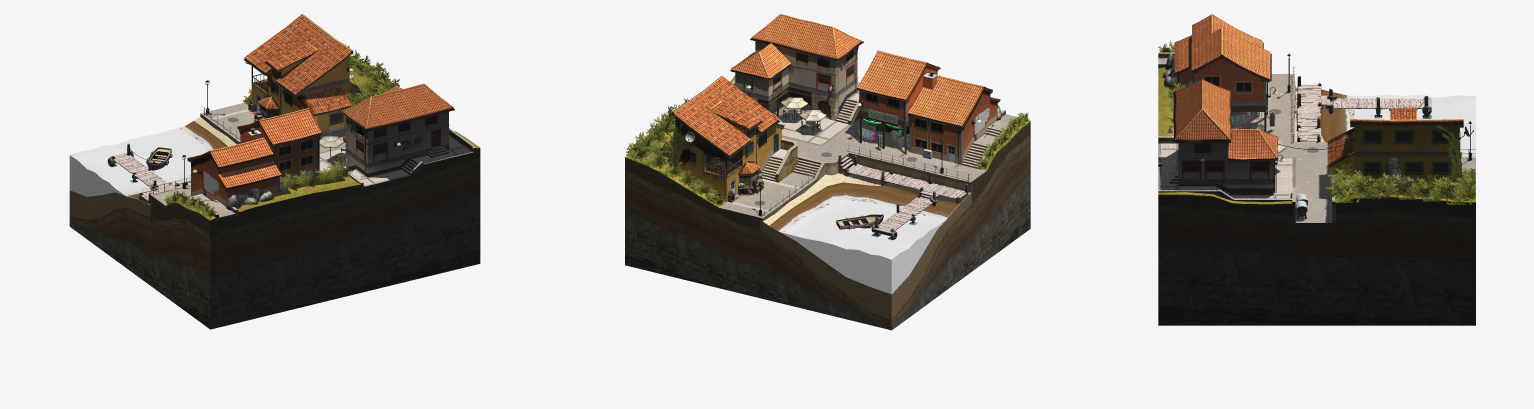
Rendered from Cudillero Bake Final.obj.
3 views of the same model, side by side, from view 1: azimuth 30°, elevation 25°; view 2: azimuth 150°, elevation 25°; view 3: azimuth 270°, elevation 25° (orthographic). The views are drawn at different scales.
Parts seen in each view (by area): view 1: Object026, Object028, Object027, Object025, Object023, Object030, Alpha_, Object024, Sea, Object029, Object033, Object031 (+1 smaller); view 2: Object026, Object027, Object024, Object023, Alpha_, Object030, Object025, Object028, Sea, Object029, Object033, Object031 (+2 smaller); view 3: Object027, Object028, Object026, Object024, Object030, Alpha_, Object025, Object023, Object029, Object033, Object031, Sea (+1 smaller).
Boxes of the visible parts, x1,y1,x2,y2 form: Object026: (69, 220, 410, 329); Object028: (69, 116, 480, 278); Object027: (69, 148, 480, 280); Object025: (173, 14, 479, 220); Object023: (187, 102, 473, 206); Object030: (139, 83, 454, 203); Alpha_: (116, 43, 399, 219); Object024: (150, 59, 349, 217); Sea: (69, 131, 192, 196); Object029: (127, 114, 472, 204); Object033: (150, 63, 476, 221); Object031: (109, 80, 400, 203); Object026: (625, 179, 1030, 330); Object027: (625, 121, 1030, 326); Object024: (676, 77, 986, 229); Object023: (727, 50, 1000, 202); Alpha_: (624, 71, 1029, 234); Object030: (730, 14, 968, 203); Object025: (625, 75, 1030, 207); Object028: (625, 134, 1030, 320); Sea: (779, 209, 947, 294); Object029: (752, 50, 970, 218); Object033: (685, 80, 1019, 215); Object031: (746, 81, 1002, 238); Object027: (1158, 119, 1475, 325); Object028: (1158, 205, 1475, 266); Object026: (1276, 173, 1475, 325); Object024: (1179, 58, 1475, 224); Object030: (1173, 76, 1321, 194); Alpha_: (1158, 40, 1475, 204); Object025: (1158, 67, 1475, 204); Object023: (1174, 14, 1276, 131); Object029: (1158, 86, 1324, 198); Object033: (1158, 52, 1475, 224); Object031: (1167, 53, 1471, 164); Sea: (1372, 94, 1475, 156).
Size of the model in its own units: 1848 by 1110 by 1668.
Materials: 25 (22 with a texture image).
